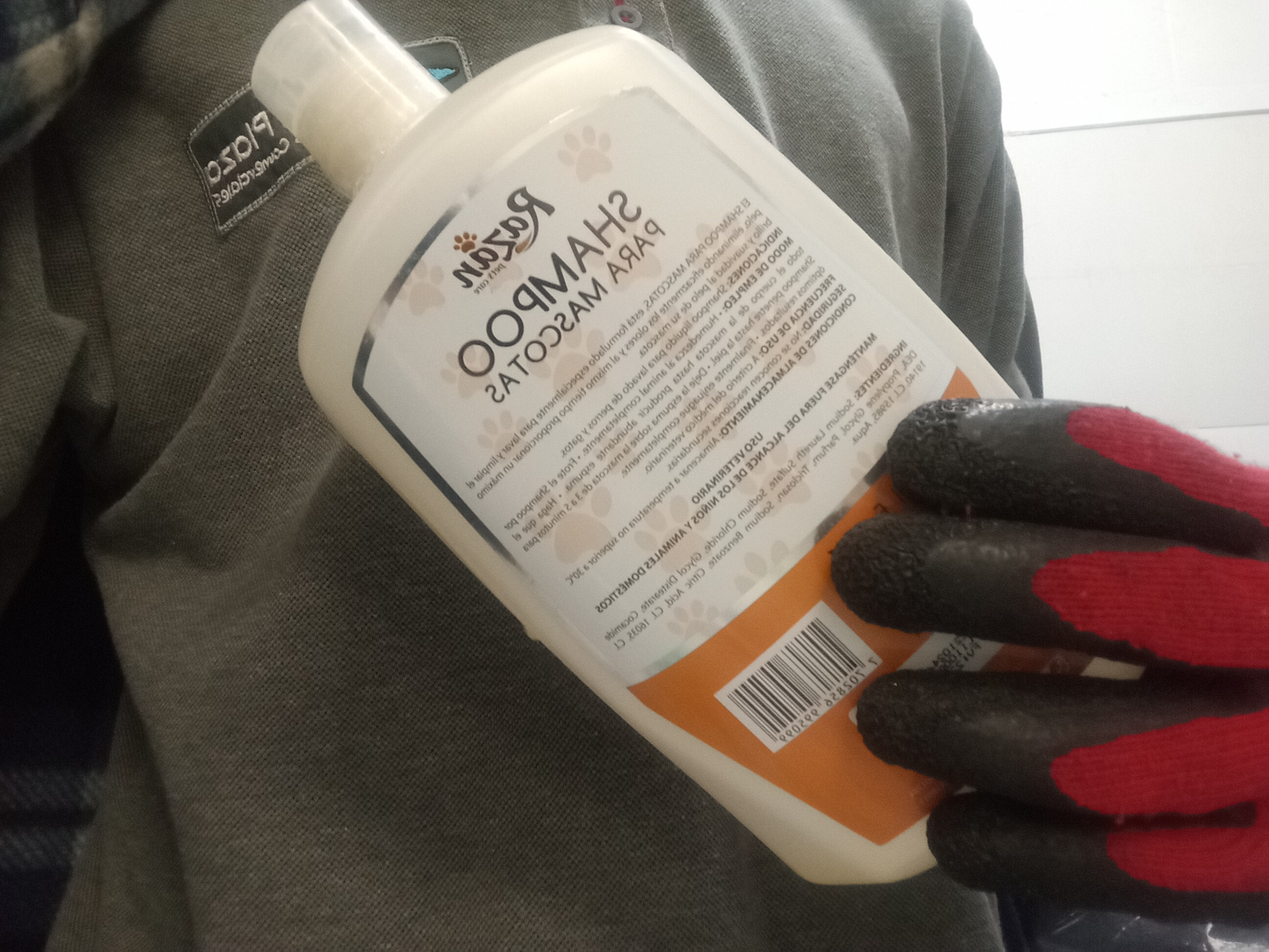Plastico: (248, 0, 1035, 884)
